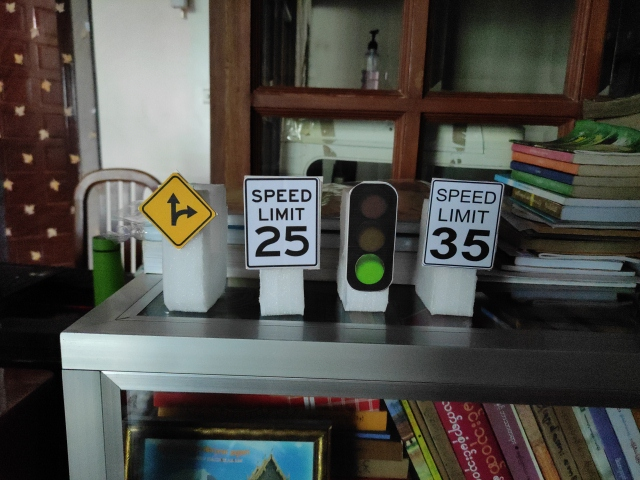Green Traffic Light: (346, 181, 399, 292)
Speed Limit 25: (242, 173, 323, 269)
Speed Limit 35: (423, 179, 504, 269)
Straight Or Right Sign: (140, 173, 217, 248)
